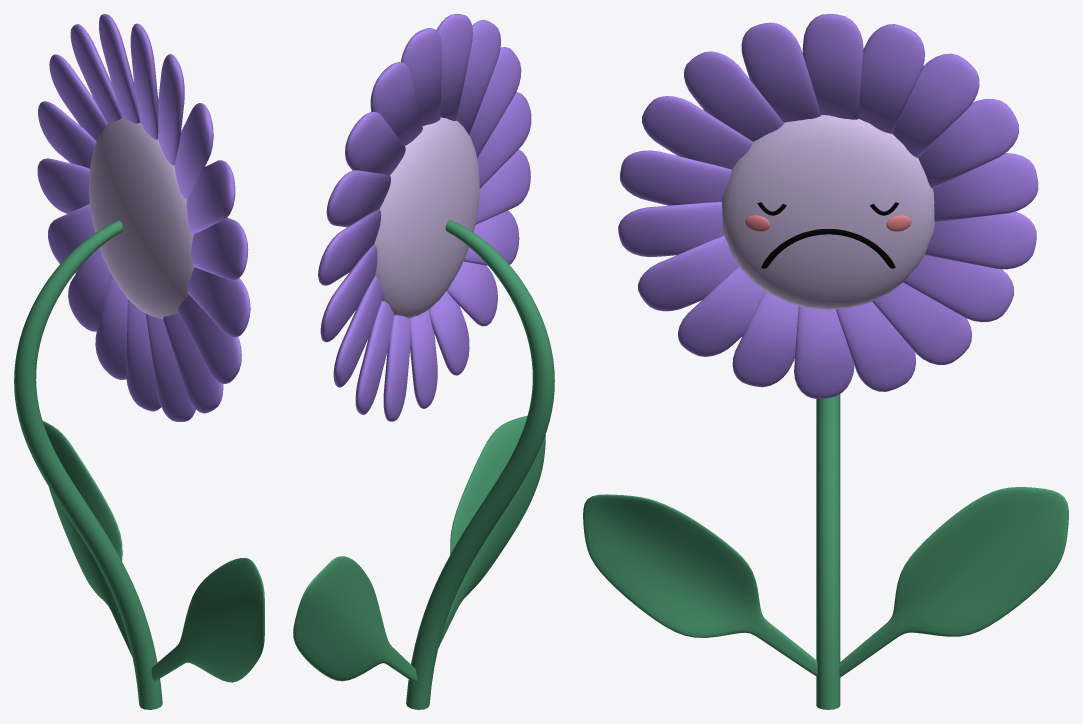
File: vsad.glb
3 renders of one model, left to right at view 1: azimuth 30°, elevation 25°; view 2: azimuth 150°, elevation 25°; view 3: azimuth 270°, elevation 25°, orthographic.
Parts seen in each view (by area): view 1: Petals, Face, Stem, Left Leaf, Right Leaf; view 2: Petals, Face, Stem, Right Leaf, Left Leaf; view 3: Petals, Face, Right Leaf, Left Leaf, Stem, Mouth.
Part boxes in pixels (x1,y1,x2,y2): Petals: [37, 14, 250, 421]; Face: [89, 117, 194, 319]; Stem: [14, 220, 162, 709]; Left Leaf: [151, 558, 264, 682]; Right Leaf: [43, 421, 132, 656]; Petals: [318, 14, 531, 421]; Face: [374, 117, 479, 318]; Stem: [406, 220, 554, 709]; Right Leaf: [293, 556, 417, 683]; Left Leaf: [438, 415, 545, 647]; Petals: [618, 14, 1038, 398]; Face: [721, 115, 934, 310]; Right Leaf: [838, 487, 1068, 677]; Left Leaf: [583, 494, 817, 676]; Stem: [816, 394, 840, 709]; Mouth: [761, 229, 895, 268].
Size of the model in its own units: 1.81 by 6.95 by 4.45.
